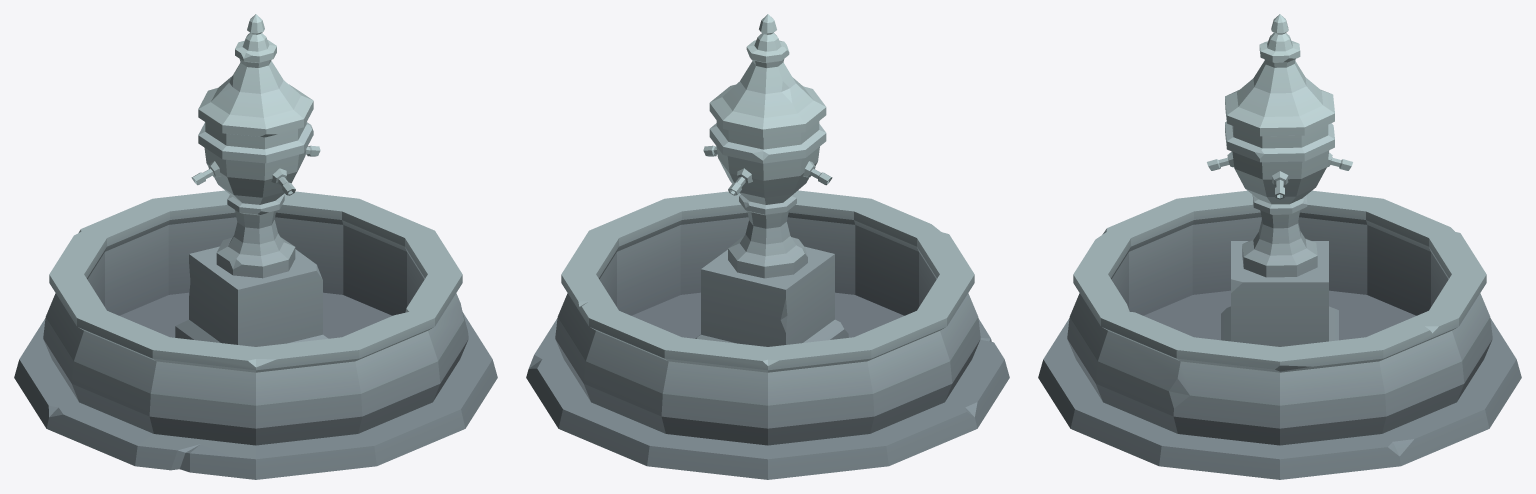
The model's file is LP_Fountain_G.fbx.
3 views of the same model, side by side, from view 1: azimuth 30°, elevation 25°; view 2: azimuth 150°, elevation 25°; view 3: azimuth 270°, elevation 25° (orthographic).
Visible parts, largest first — view 1: LP_Fountain_G; view 2: LP_Fountain_G; view 3: LP_Fountain_G.
Part boxes in pixels (x1,y1,x2,y2): LP_Fountain_G: (14,14,497,479); LP_Fountain_G: (526,14,1009,479); LP_Fountain_G: (1038,14,1521,479).
Size of the model in its own units: 478 by 396 by 478.
